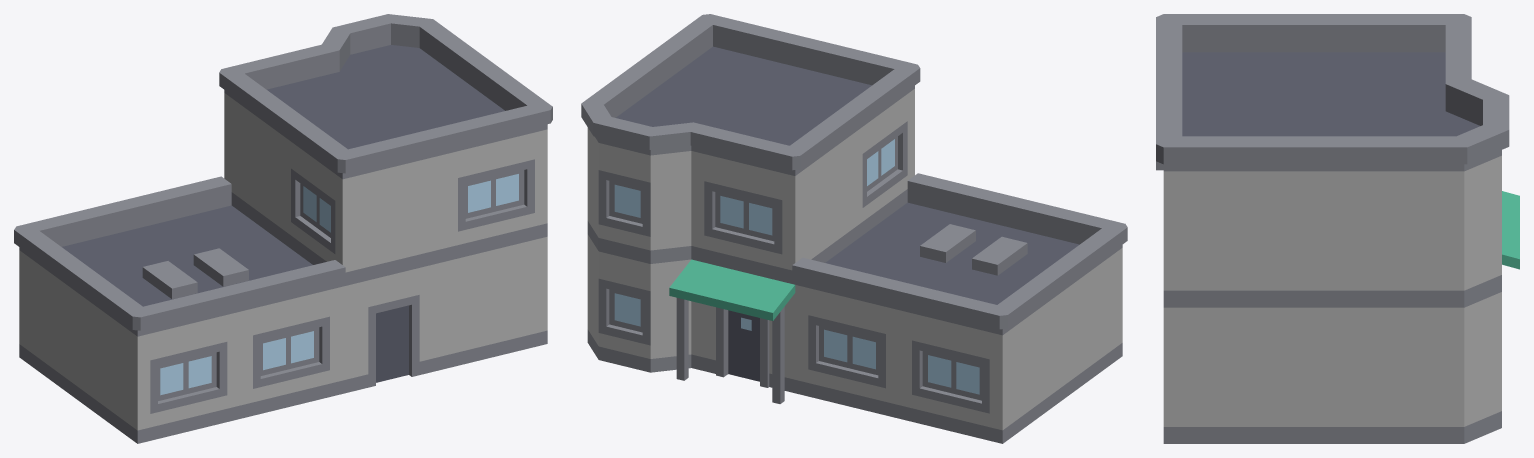
The model's file is casa3.glb.
3 renders of one model, left to right at view 1: azimuth 30°, elevation 25°; view 2: azimuth 150°, elevation 25°; view 3: azimuth 270°, elevation 25°, orthographic. The views are drawn at different scales.
Parts seen in each view (by area): view 1: small_buildingE; view 2: small_buildingE; view 3: small_buildingE.
Part boxes in pixels (x1,y1,x2,y2): small_buildingE: (14,14,552,443); small_buildingE: (581,14,1127,443); small_buildingE: (1156,14,1519,443).
Bounding box in the file's own units: 1.64 × 0.88 × 0.9679.
1 material, 1 textured.
